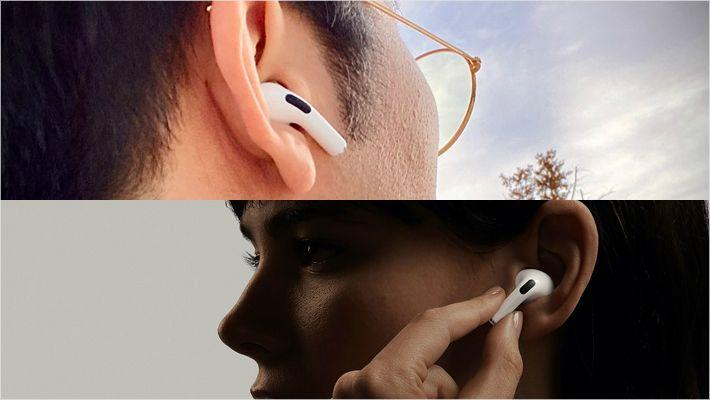earphone: (246, 77, 354, 166), (496, 256, 553, 334)
